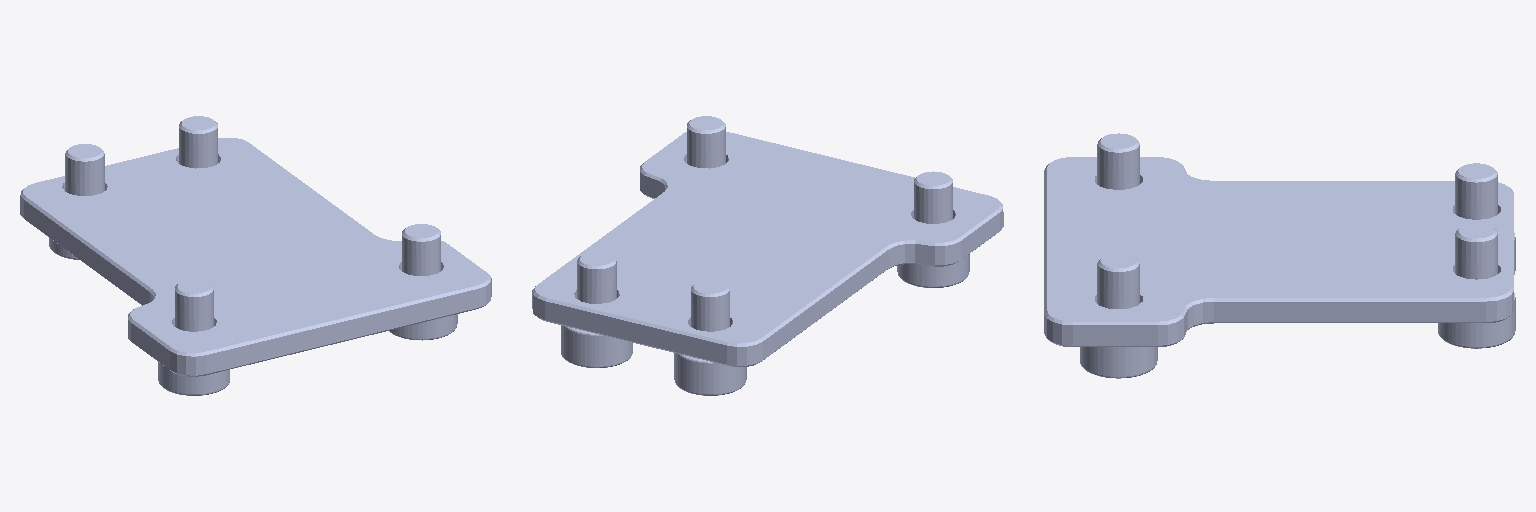
URDF robot description (left_camera_urdf):
<?xml version="1.0" encoding="utf-8"?>
<!-- This URDF was automatically created by SolidWorks to URDF Exporter! Originally created by Stephen Brawner (brawner@gmail.com) 
     Commit Version: 1.6.0-4-g7f85cfe  Build Version: 1.6.7995.38578
     For more information, please see http://wiki.ros.org/sw_urdf_exporter -->
<robot
  name="left_camera_urdf">
  <link
    name="left_camera_baselink">
    <inertial>
      <origin
        xyz="0.00169176146350225 6.27177057885842E-05 0.00613551141760804"
        rpy="0 0 0" />
      <mass
        value="0.0391136973543017" />
      <inertia
        ixx="2.10082366937357E-05"
        ixy="4.15569575588325E-09"
        ixz="6.31312381479377E-08"
        iyy="1.79110804276993E-05"
        iyz="4.29415564719963E-09"
        izz="3.81003191600635E-05" />
    </inertial>
    <visual>
      <origin
        xyz="0 0 0"
        rpy="0 0 0" />
      <geometry>
        <mesh
          filename="package://ur_description/meshes/camera/left_camera_baselink.STL" />
      </geometry>
      <material
        name="">
        <color
          rgba="0.792156862745098 0.819607843137255 0.933333333333333 1" />
      </material>
    </visual>
    <collision>
      <origin
        xyz="0 0 0"
        rpy="0 0 0" />
      <geometry>
        <mesh
          filename="package://ur_description/meshes/camera/left_camera_baselink.STL" />
      </geometry>
    </collision>
  </link>
  <link
    name="left_camera_link">
    <inertial>
      <origin
        xyz="5.61106716645554E-13 -0.00144115236579754 0.000791750983279549"
        rpy="0 0 0" />
      <mass
        value="0.00178362481871375" />
      <inertia
        ixx="1.30543218810336E-07"
        ixy="-5.08996360184974E-19"
        ixz="-8.35297379808027E-20"
        iyy="6.39586835557311E-08"
        iyz="-3.24181725937733E-19"
        izz="1.89926836088096E-07" />
    </inertial>
    <visual>
      <origin
        xyz="0 0 0"
        rpy="0 0 0" />
      <geometry>
        <mesh
          filename="package://ur_description/meshes/camera/left_camera_link.STL" />
      </geometry>
      <material
        name="">
        <color
          rgba="0.792156862745098 0.819607843137255 0.933333333333333 1" />
      </material>
    </visual>
    <collision>
      <origin
        xyz="0 0 0"
        rpy="0 0 0" />
      <geometry>
        <mesh
          filename="package://ur_description/meshes/camera/left_camera_link.STL" />
      </geometry>
    </collision>
  </link>
  <joint
    name="left_camera_joint"
    type="fixed">
    <origin
      xyz="0 -0.049998 -0.0025"
      rpy="0 0 0" />
    <parent
      link="left_camera_baselink" />
    <child
      link="left_camera_link" />
    <axis
      xyz="0 0 0" />
  </joint>
</robot>

--- Render facts (derived) ---
3 views of the same robot in one strip: view 1: azimuth 30°, elevation 25°; view 2: azimuth 150°, elevation 25°; view 3: azimuth 270°, elevation 25° (orthographic).
Model left_camera_urdf with 2 links and 1 joints (1 fixed), rooted at left_camera_baselink, posed every joint at zero.
Links seen in each view (by area): view 1: left_camera_link; view 2: left_camera_link; view 3: left_camera_link.
Boxes of the visible links, x1=… form: left_camera_link: x1=20, y1=116, x2=491, y2=395; left_camera_link: x1=532, y1=116, x2=1003, y2=395; left_camera_link: x1=1044, y1=133, x2=1515, y2=378.
Bounding box of the posed robot: 0.028 × 0.0333 × 0.008 m (x, y, z).
Meshes: 2 distinct files referenced, 1 mesh visuals loaded (1 binary STL); not drawn: 1 (reference not matched to a file when rendering).
